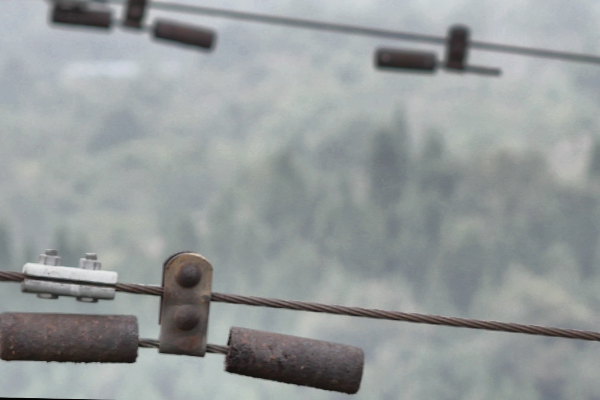damper: (1, 246, 368, 398), (46, 1, 218, 52)
damper_defect: (370, 19, 505, 78)
